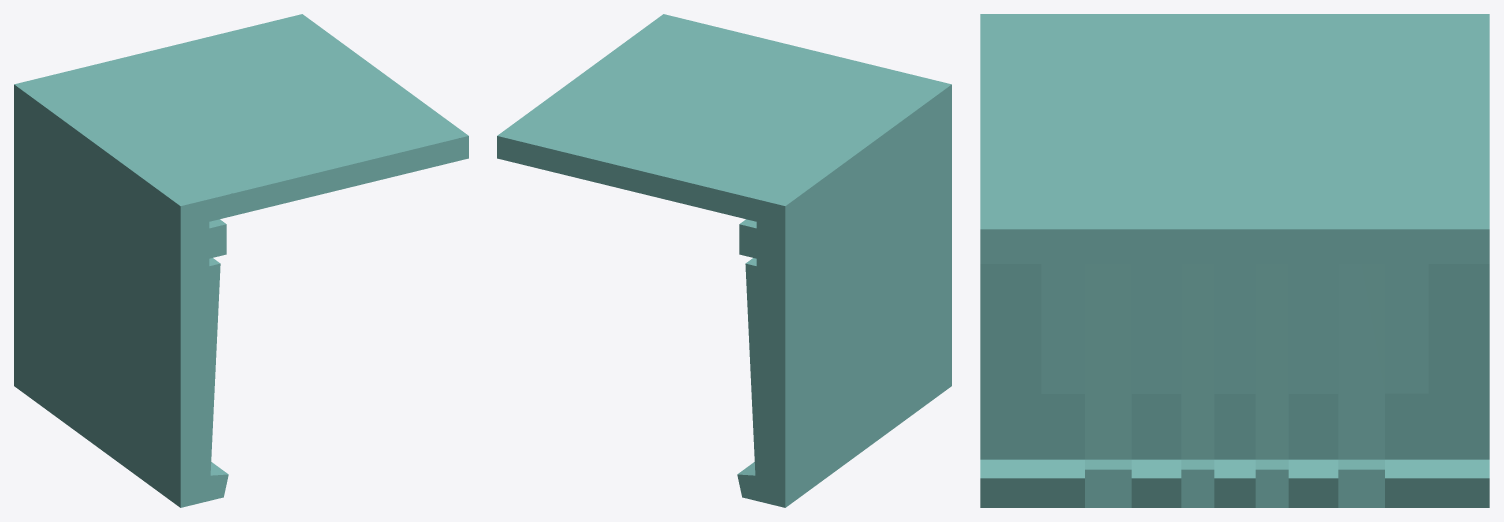
The model's file is EspacioInicialParedInteriorBajoNI.gltf.
3 renders of one model, left to right at view 1: azimuth 30°, elevation 25°; view 2: azimuth 150°, elevation 25°; view 3: azimuth 270°, elevation 25°, orthographic. The views are drawn at different scales.
Parts seen in each view (by area): view 1: Pared interior.16; view 2: Pared interior.16; view 3: Pared interior.16.
Boxes of the visible parts, x1,y1,x2,y2 form: Pared interior.16: (14, 14, 468, 507); Pared interior.16: (497, 14, 951, 507); Pared interior.16: (980, 14, 1489, 507).
Bounding box in the file's own units: 2 × 2 × 2.
